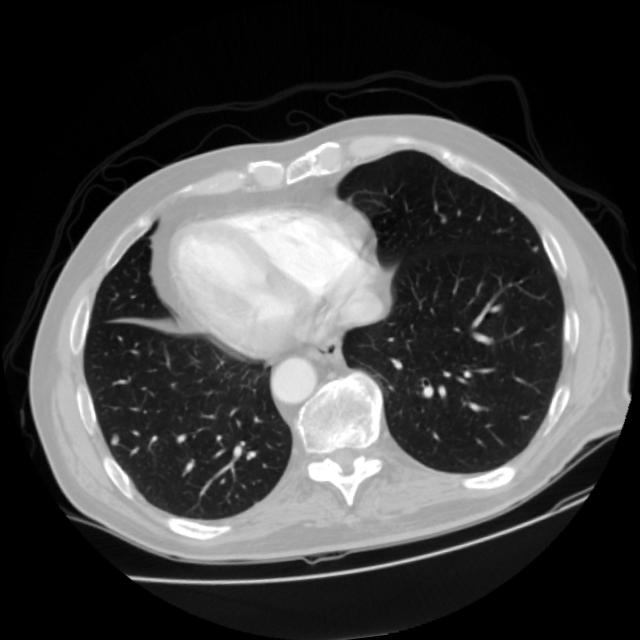nodule: (104, 424, 129, 449)
